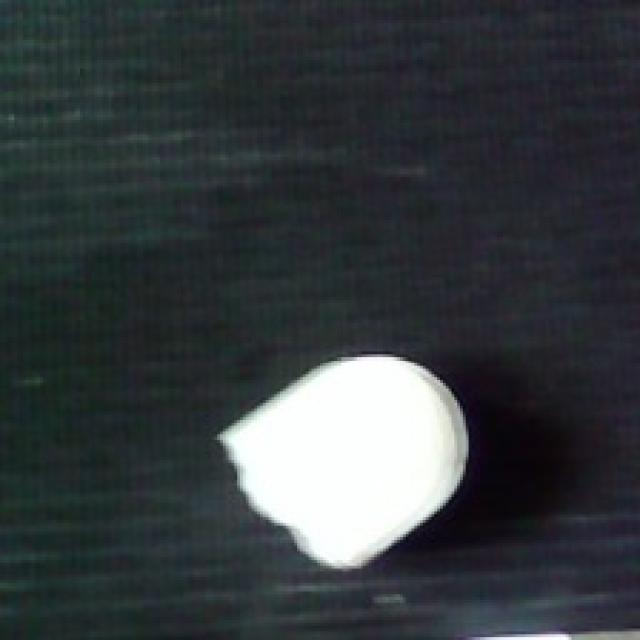defected: (209, 343, 480, 577)
